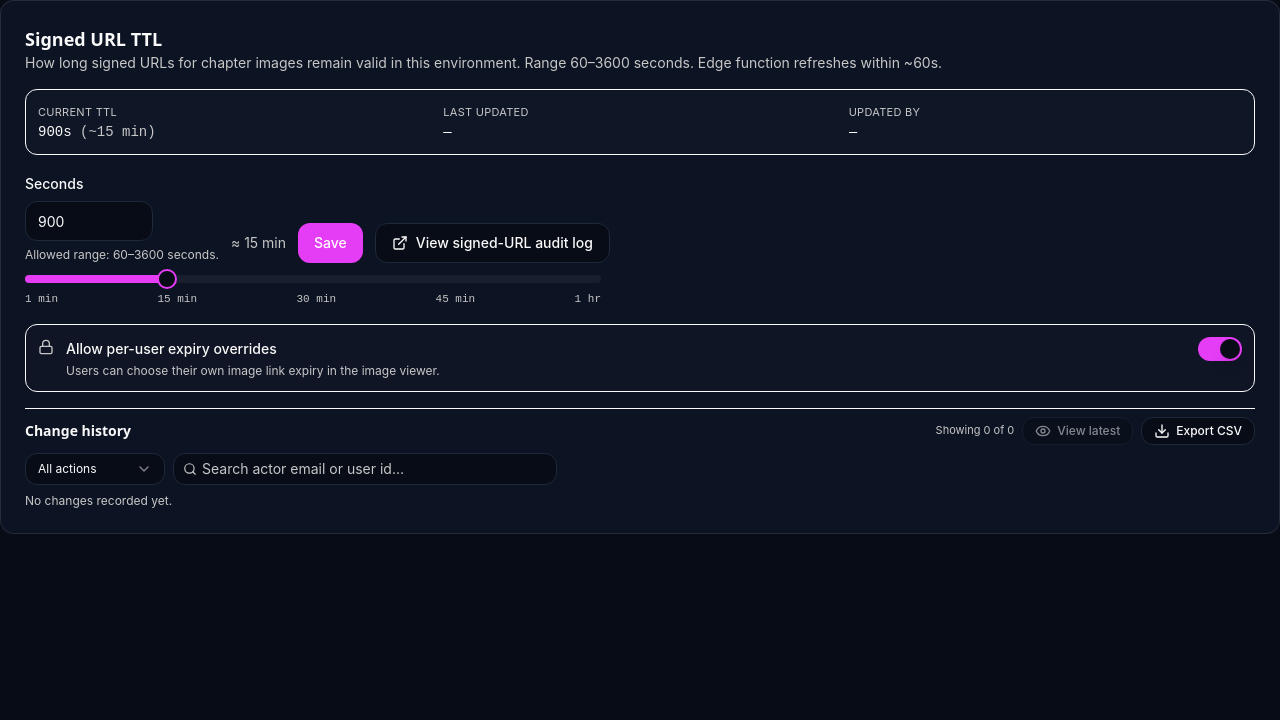
Test: AdminSignedUrlTtlSection — TTL validation › renders the same SQLSTATE label + Details text in toast and inline panel (raise_exception (P0001))
Replace the text in the number field labelled "Seconds" with "1200" at {"x": 89, "y": 221}, box [25,201,153,241]
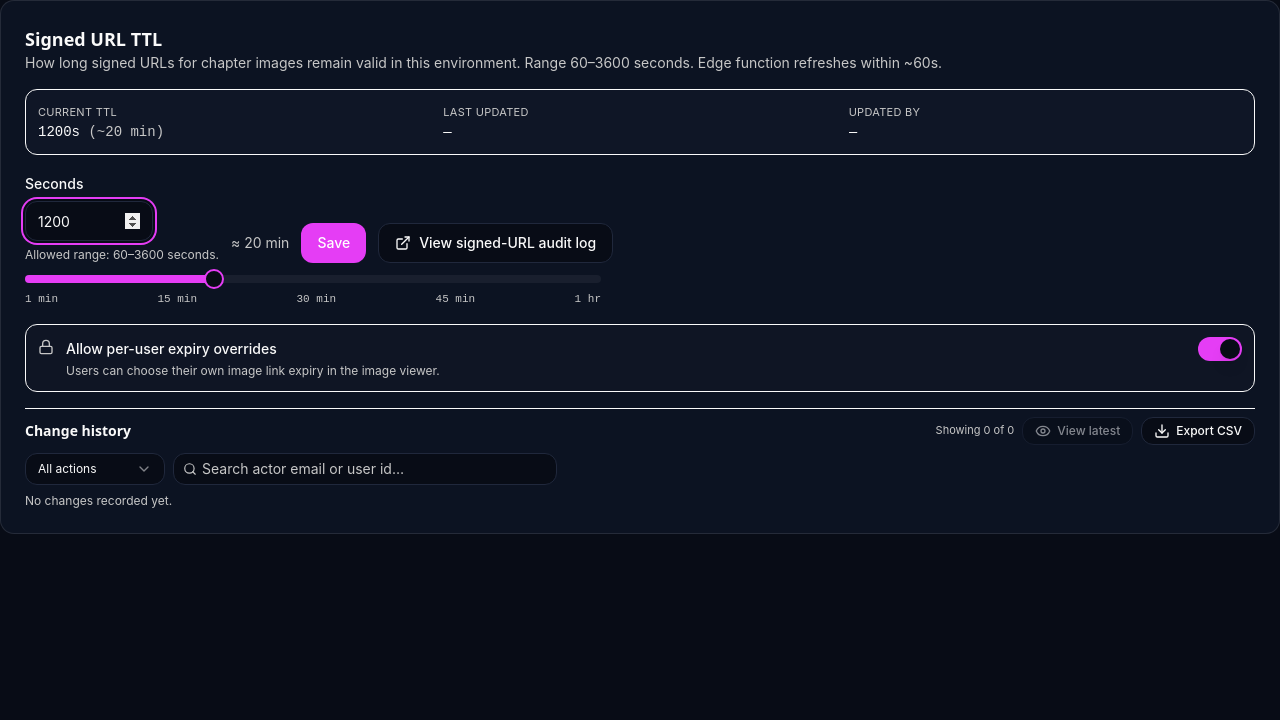
Check: the button "Save" is enabled
Click the button "Save" at {"x": 334, "y": 243}, box [301,223,366,263]
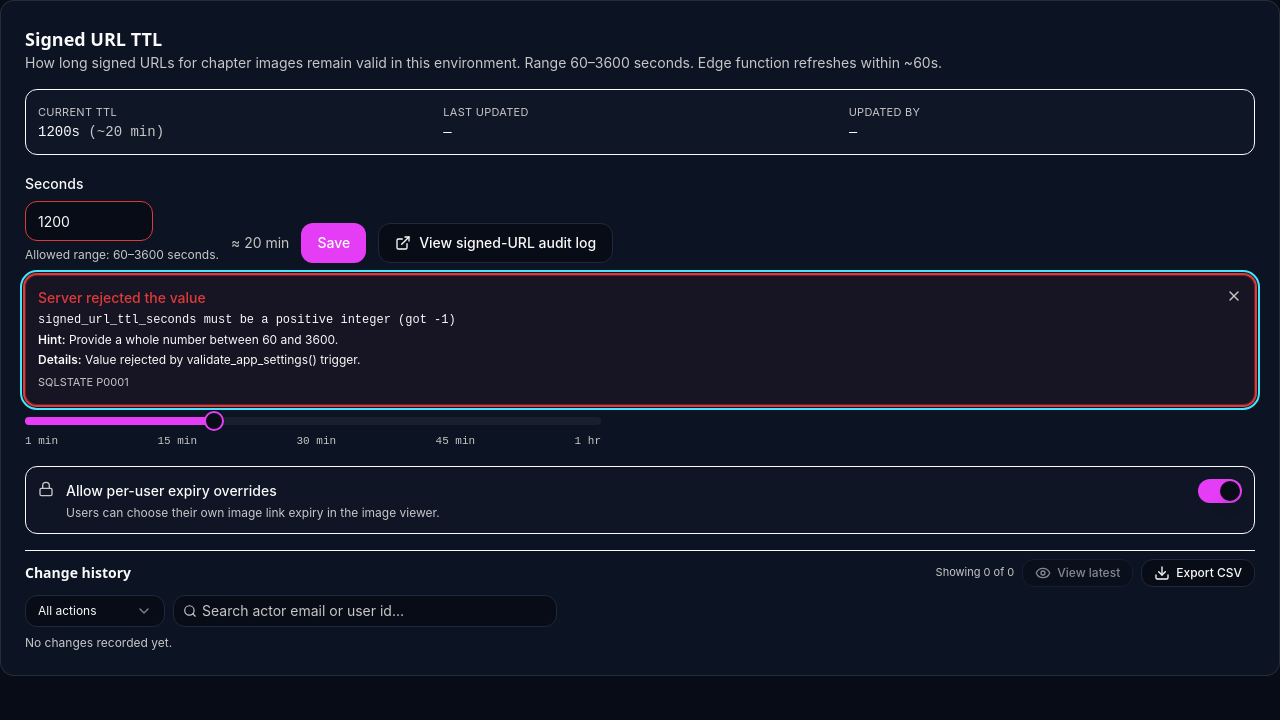
Check: the message is shown, box [25,275,1255,405]
Check: the message shows "Details:", box [38,352,82,367]
Check: the message shows "Value rejected by validate_app_settings() trigger.", box [85,352,360,367]
